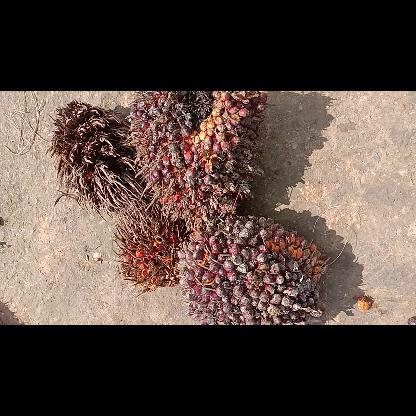Janjang kosong: (46, 99, 154, 219)
Kurang masak: (175, 210, 330, 324)
TBS masak: (124, 91, 270, 225)
Terlalu masak: (108, 202, 184, 294)
